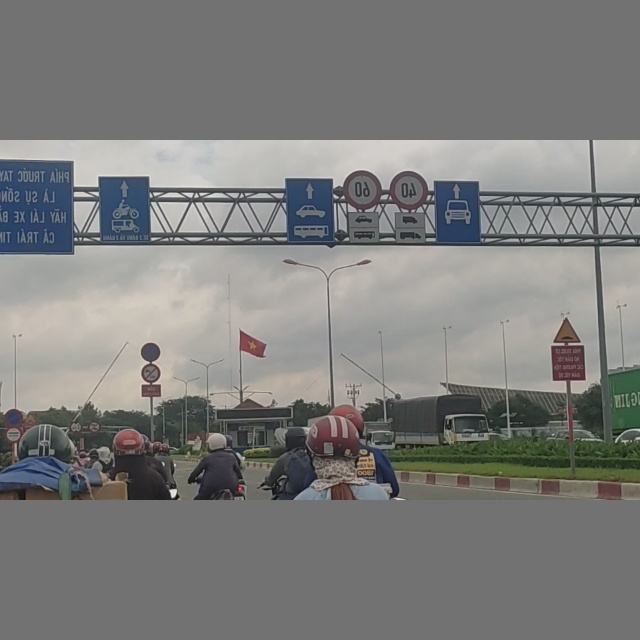P.107: (88, 421, 101, 433), (70, 421, 82, 433)
P.111: (140, 363, 161, 383)
P.127*40: (389, 170, 428, 211)
P.127*60: (343, 170, 381, 210)
P.129: (5, 427, 21, 442)
P.130: (141, 342, 160, 361)
P.131a: (3, 409, 23, 427)
W.221b: (553, 317, 581, 342), (23, 412, 36, 423)
